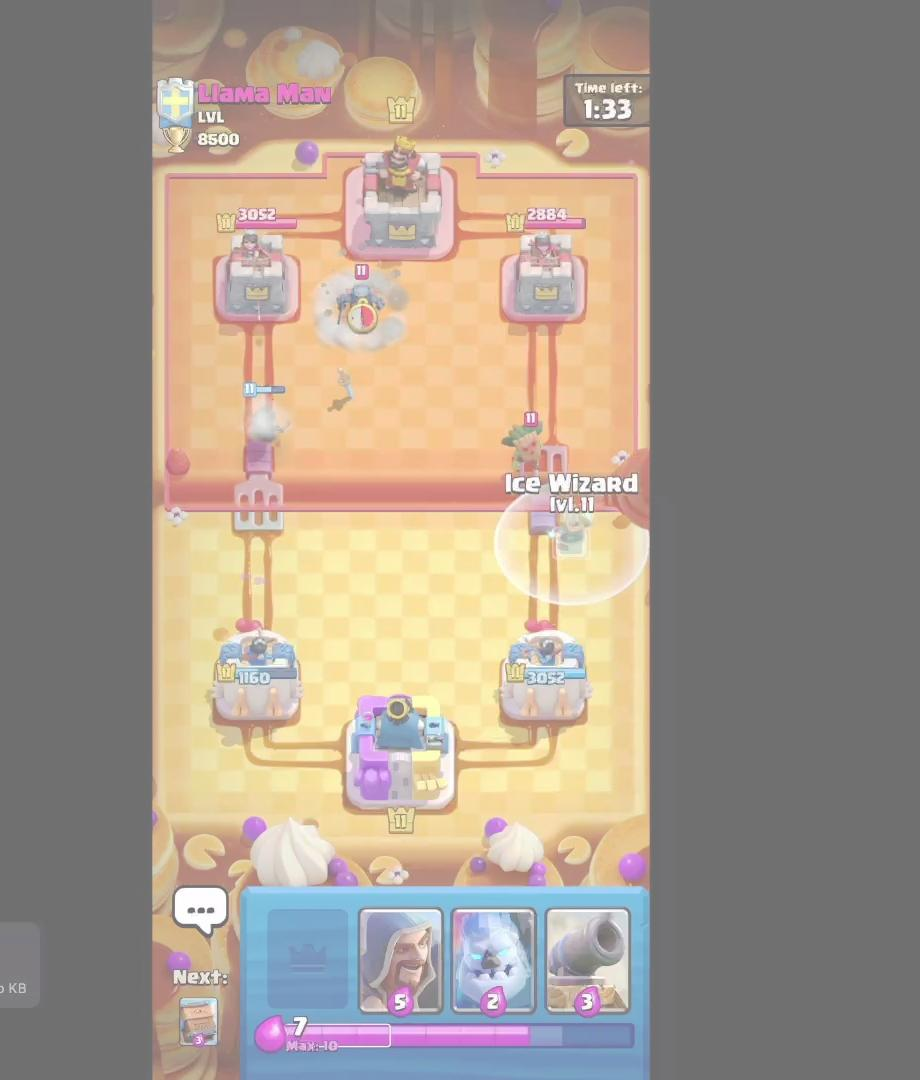Dart Goblin: (503, 409, 551, 477)
Mini Pekka: (332, 262, 390, 334)
